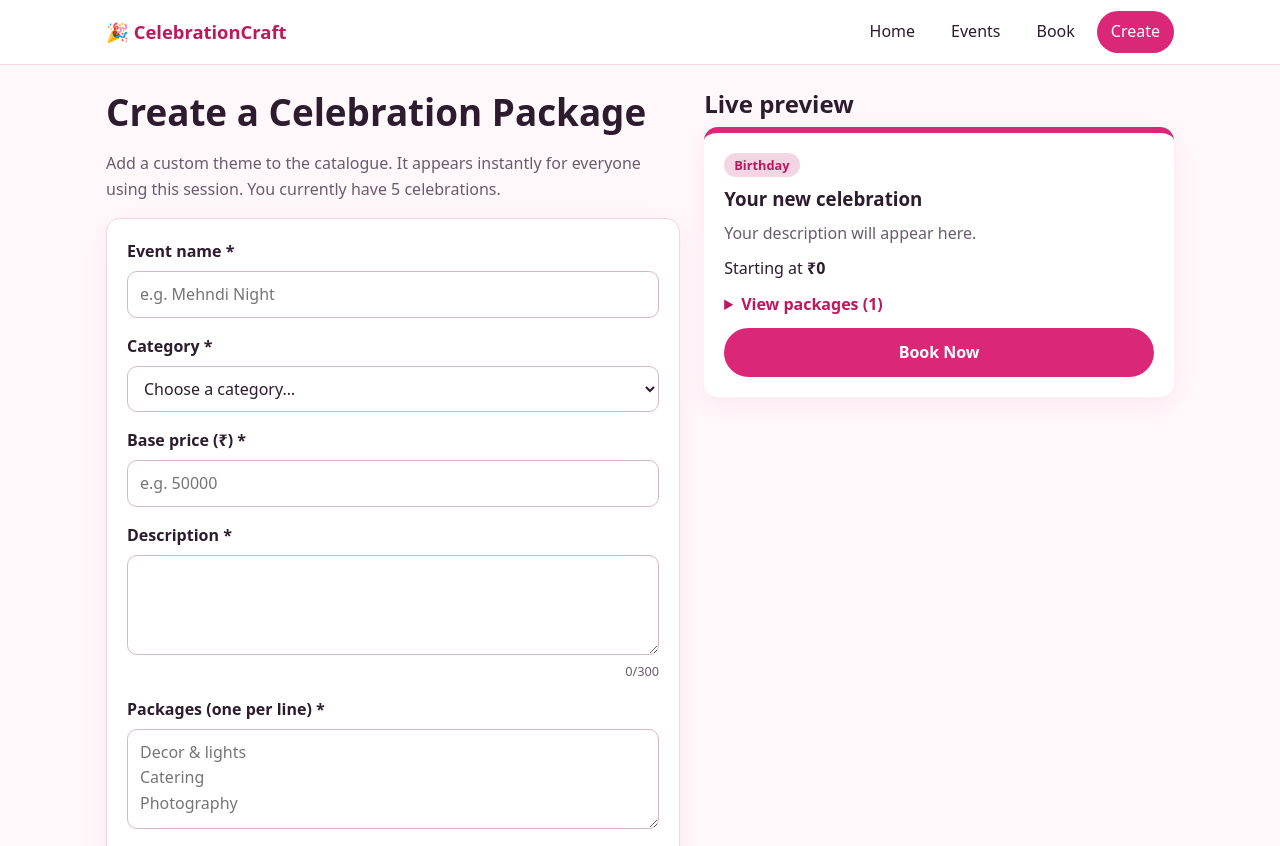
Test: Create celebration form › rejects a base price of zero
This screenshot has width=1280, height=846.
Type "Mehndi Night" into the field labelled "Event name *". click: (393,295)
box: x1=127 y1=271 x2=659 y2=318
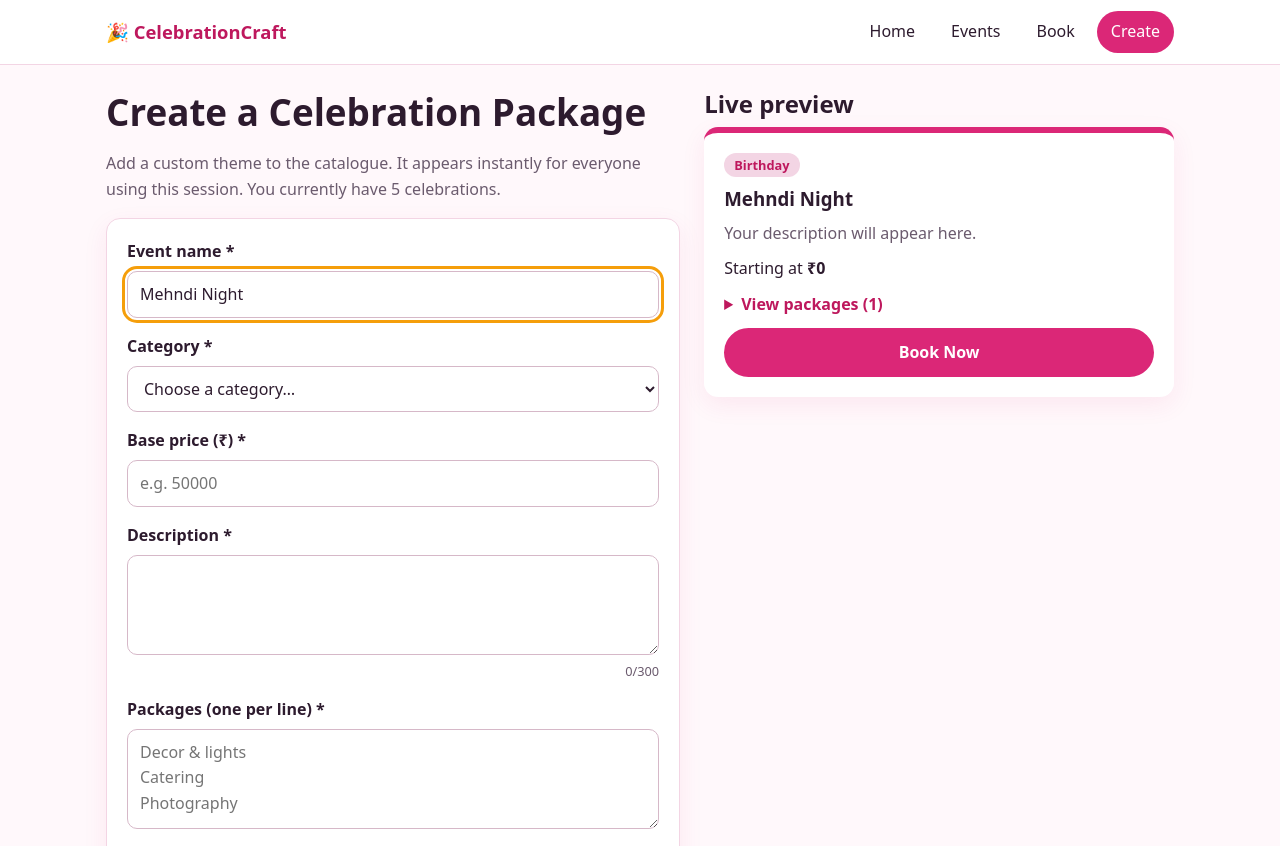
Select "Marriage" in the dropdown labelled "Category *". click: (393,389)
box: x1=127 y1=366 x2=659 y2=412
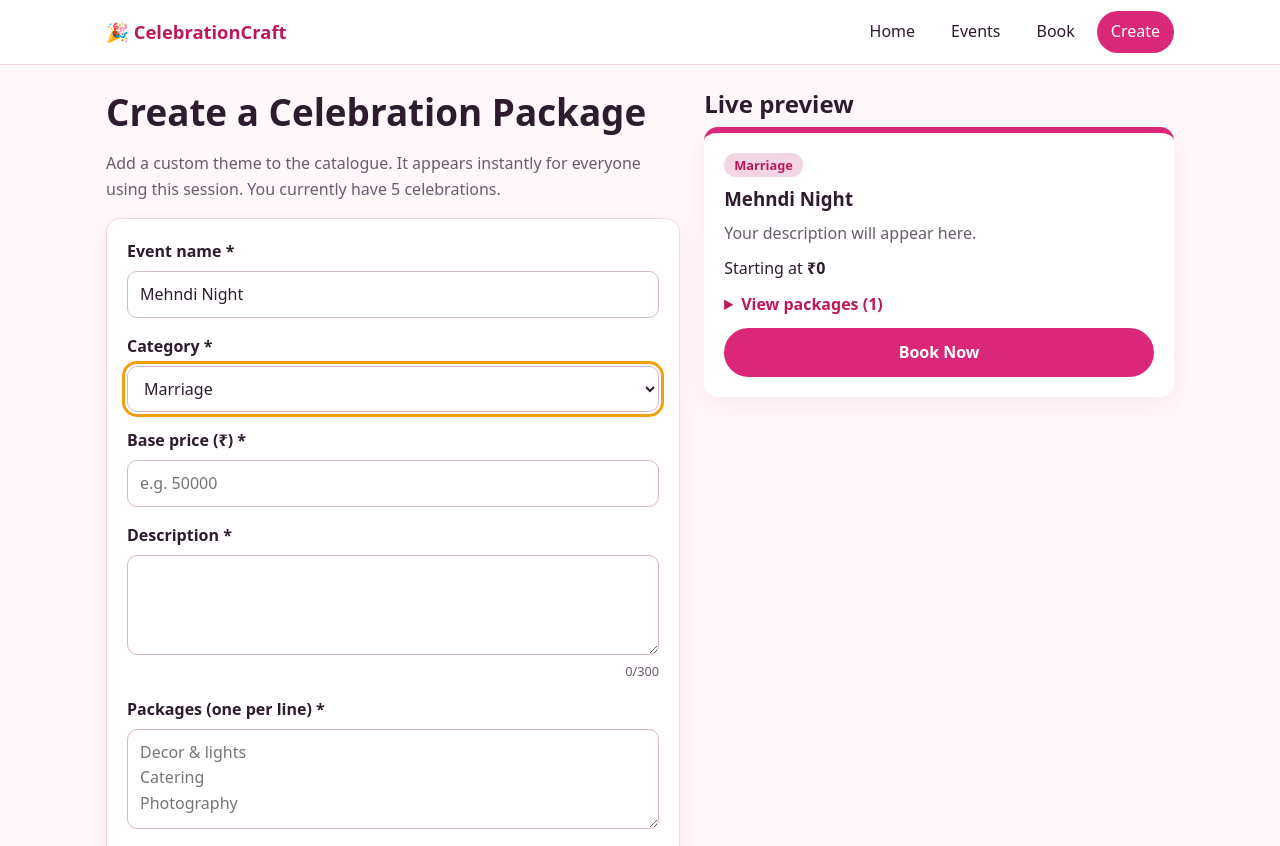
Type "0" into the number field labelled "Base price (₹) *". click: (393,483)
box: x1=127 y1=460 x2=659 y2=507
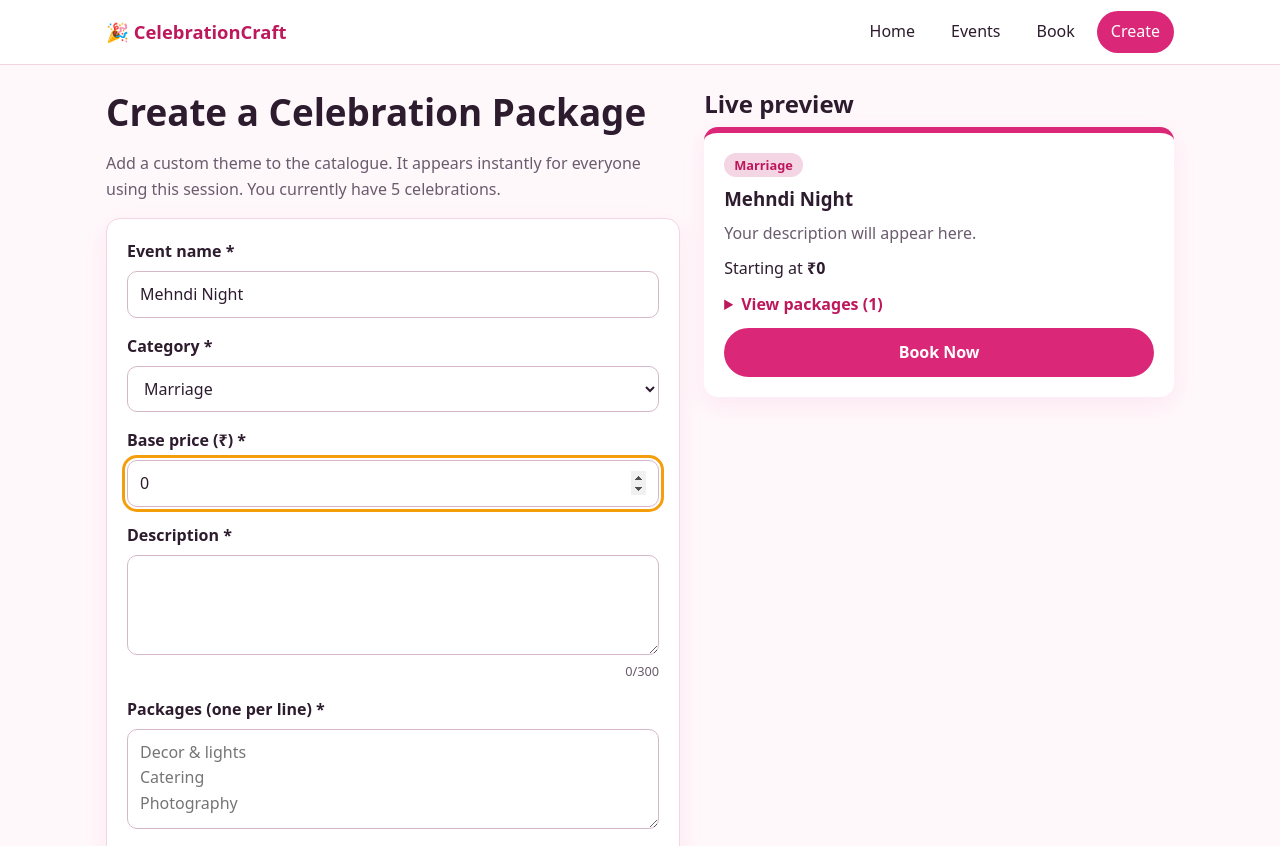
Type "A colourful mehndi evening with music." into the text box labelled "Description *". click: (393,605)
box: x1=127 y1=555 x2=659 y2=655
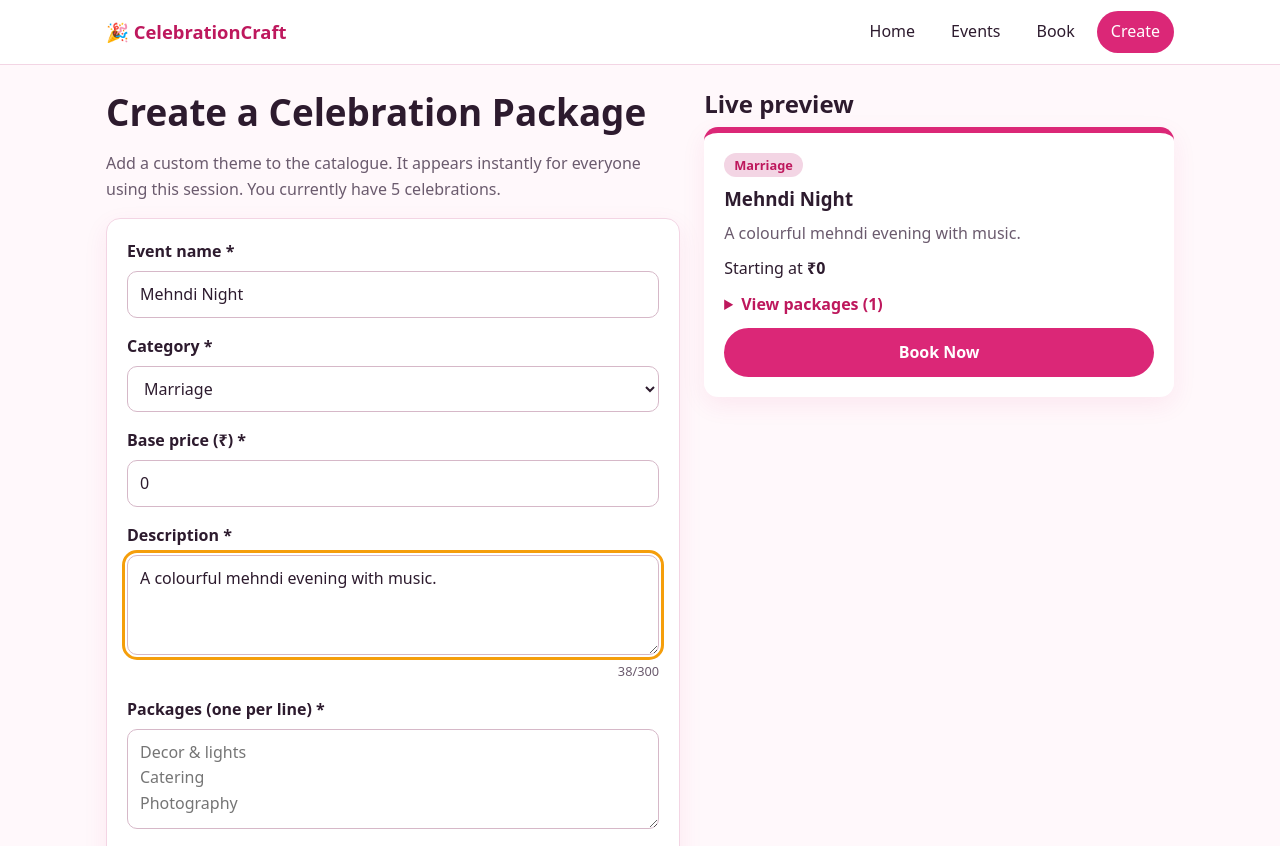
Type "Decor & lights" into the text box labelled "Packages (one per line) *". click: (393,779)
box: x1=127 y1=729 x2=659 y2=829
(page scrolled)
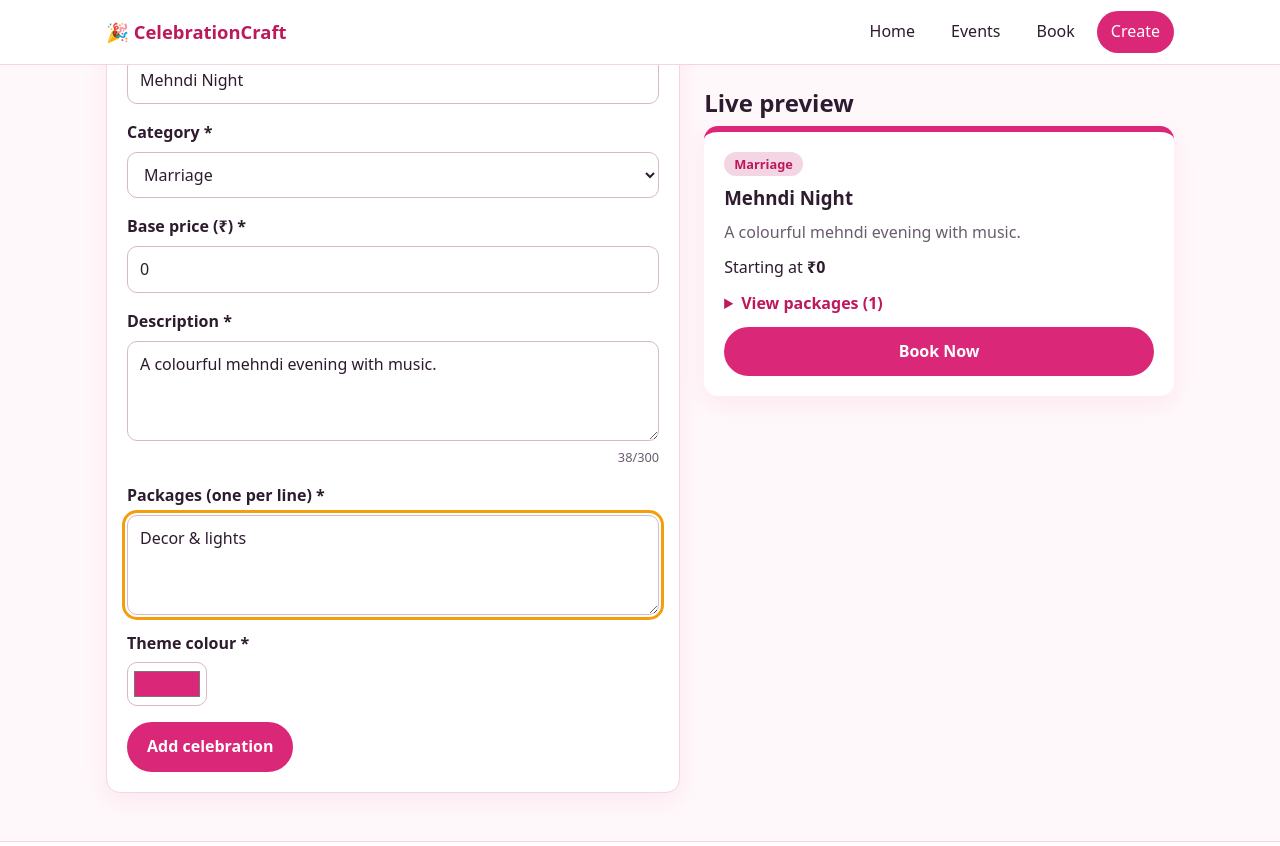
Click the button "Add celebration". click: (210,747)
box: x1=127 y1=722 x2=294 y2=772
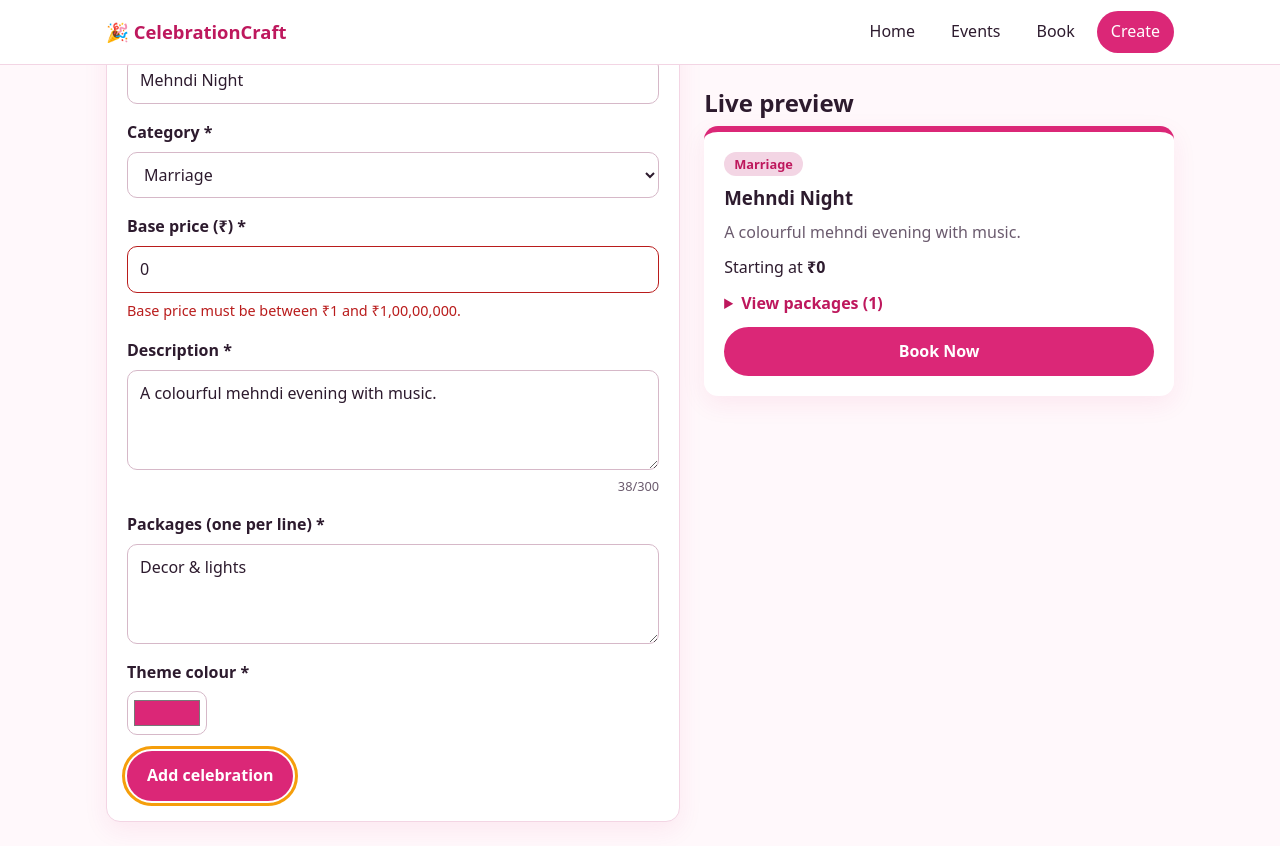
Check: the text "Base price must be between ₹1 and ₹1,00,00,000." is shown, box x1=127 y1=301 x2=461 y2=320
